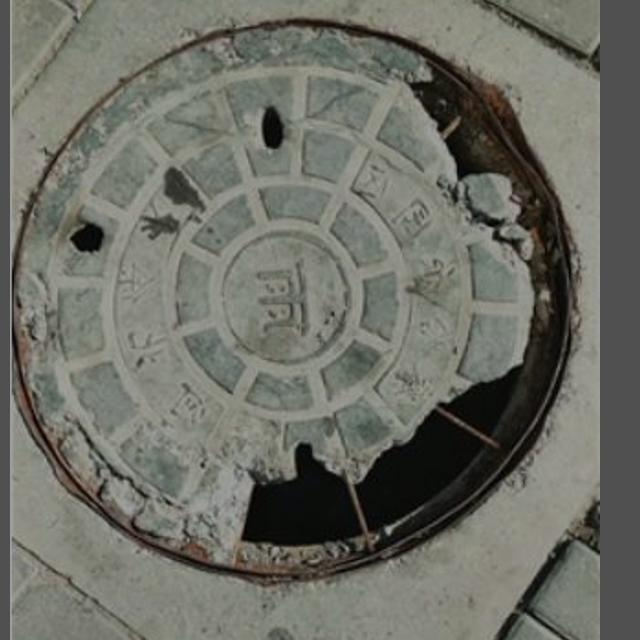broke: (21, 30, 591, 565)
